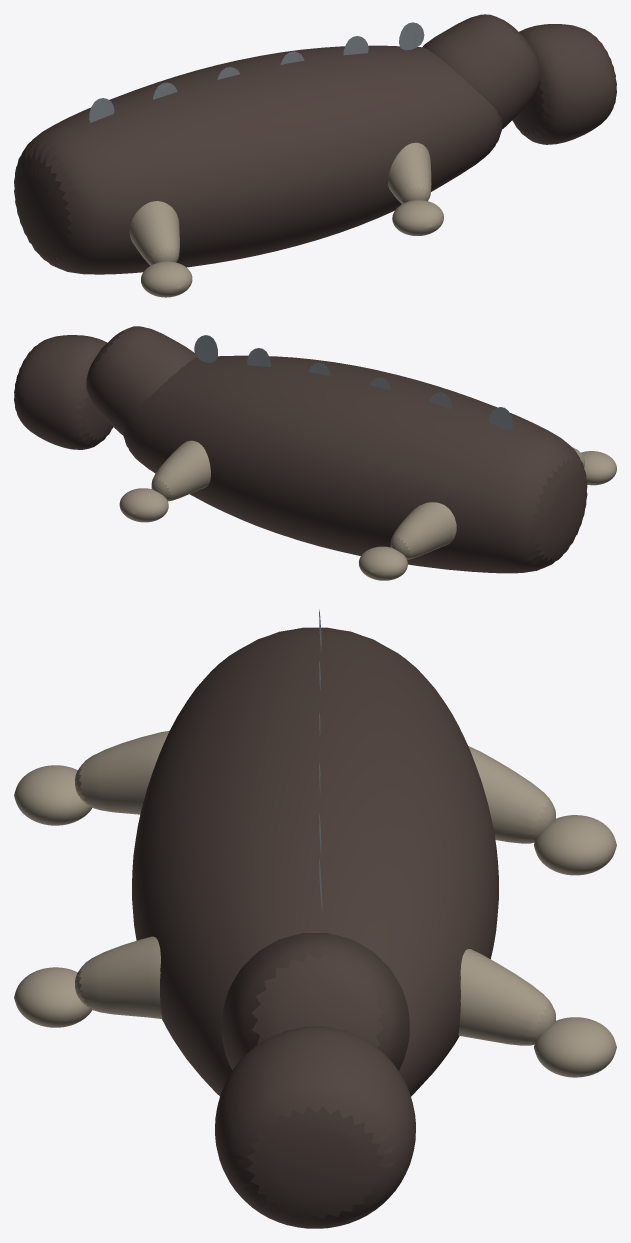
Rendered from cinder_stalker.glb.
3 views of the same model, one above another, from view 1: azimuth 30°, elevation 25°; view 2: azimuth 150°, elevation 25°; view 3: azimuth 270°, elevation 25° (orthographic). The views are drawn at different scales.
Visible parts, largest first — view 1: V35_StalkerTorso, V35_StalkerHead, V35_StalkerNeck, V35_StalkerRearLeg, V35_StalkerFrontLeg, V35_StalkerPaw.001, V35_StalkerPaw, V35_StalkerDorsal.005, V35_StalkerDorsal; view 2: V35_StalkerTorso, V35_StalkerHead, V35_StalkerNeck, V35_StalkerRearLeg.001, V35_StalkerFrontLeg.001, V35_StalkerPaw.002, V35_StalkerPaw.003, V35_StalkerPaw.001, V35_StalkerDorsal.005, V35_StalkerDorsal, V35_StalkerDorsal.004; view 3: V35_StalkerTorso, V35_StalkerHead, V35_StalkerNeck, V35_StalkerFrontLeg.001, V35_StalkerFrontLeg, V35_StalkerRearLeg, V35_StalkerRearLeg.001, V35_StalkerPaw.002, V35_StalkerPaw.003, V35_StalkerPaw.001, V35_StalkerPaw.
Boxes of the visible parts, bbox=[...] form: V35_StalkerTorso: bbox=[14, 45, 502, 274]; V35_StalkerHead: bbox=[512, 24, 616, 144]; V35_StalkerNeck: bbox=[422, 14, 540, 129]; V35_StalkerRearLeg: bbox=[129, 201, 179, 265]; V35_StalkerFrontLeg: bbox=[388, 142, 431, 203]; V35_StalkerPaw.001: bbox=[141, 261, 192, 297]; V35_StalkerPaw: bbox=[392, 200, 443, 235]; V35_StalkerDorsal.005: bbox=[399, 22, 424, 50]; V35_StalkerDorsal: bbox=[89, 98, 114, 122]; V35_StalkerTorso: bbox=[123, 355, 587, 573]; V35_StalkerHead: bbox=[14, 335, 113, 449]; V35_StalkerNeck: bbox=[86, 326, 196, 435]; V35_StalkerRearLeg.001: bbox=[390, 502, 456, 559]; V35_StalkerFrontLeg.001: bbox=[151, 440, 210, 501]; V35_StalkerPaw.002: bbox=[119, 488, 168, 522]; V35_StalkerPaw.003: bbox=[359, 546, 407, 580]; V35_StalkerPaw.001: bbox=[581, 451, 616, 485]; V35_StalkerDorsal.005: bbox=[194, 335, 217, 362]; V35_StalkerDorsal: bbox=[489, 407, 512, 431]; V35_StalkerDorsal.004: bbox=[247, 348, 270, 367]; V35_StalkerTorso: bbox=[132, 627, 498, 1096]; V35_StalkerHead: bbox=[215, 1026, 415, 1228]; V35_StalkerNeck: bbox=[221, 933, 409, 1070]; V35_StalkerFrontLeg.001: bbox=[458, 949, 555, 1045]; V35_StalkerFrontLeg: bbox=[75, 936, 162, 1018]; V35_StalkerRearLeg: bbox=[75, 731, 169, 814]; V35_StalkerRearLeg.001: bbox=[468, 746, 555, 843]; V35_StalkerPaw.002: bbox=[534, 1017, 616, 1077]; V35_StalkerPaw.003: bbox=[534, 815, 616, 875]; V35_StalkerPaw.001: bbox=[14, 765, 92, 825]; V35_StalkerPaw: bbox=[14, 967, 92, 1027].
Bounding box in the file's own units: 3.13 × 0.936 × 1.74.
